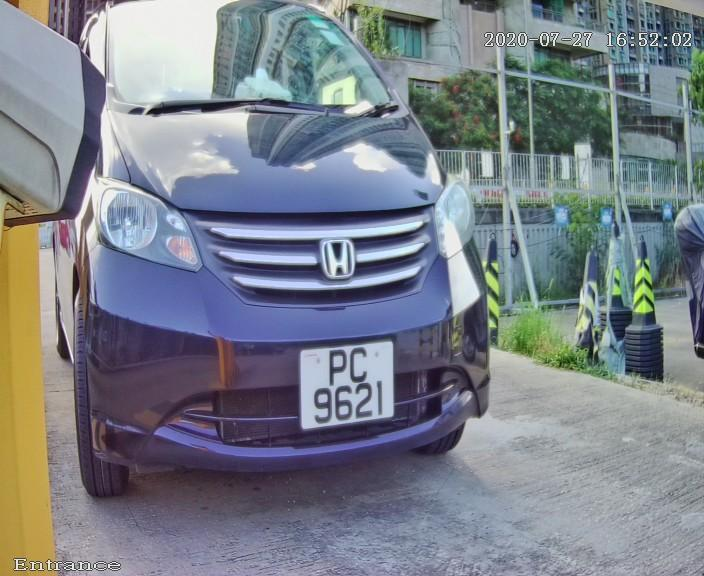privatecar: (26, 21, 554, 512)
